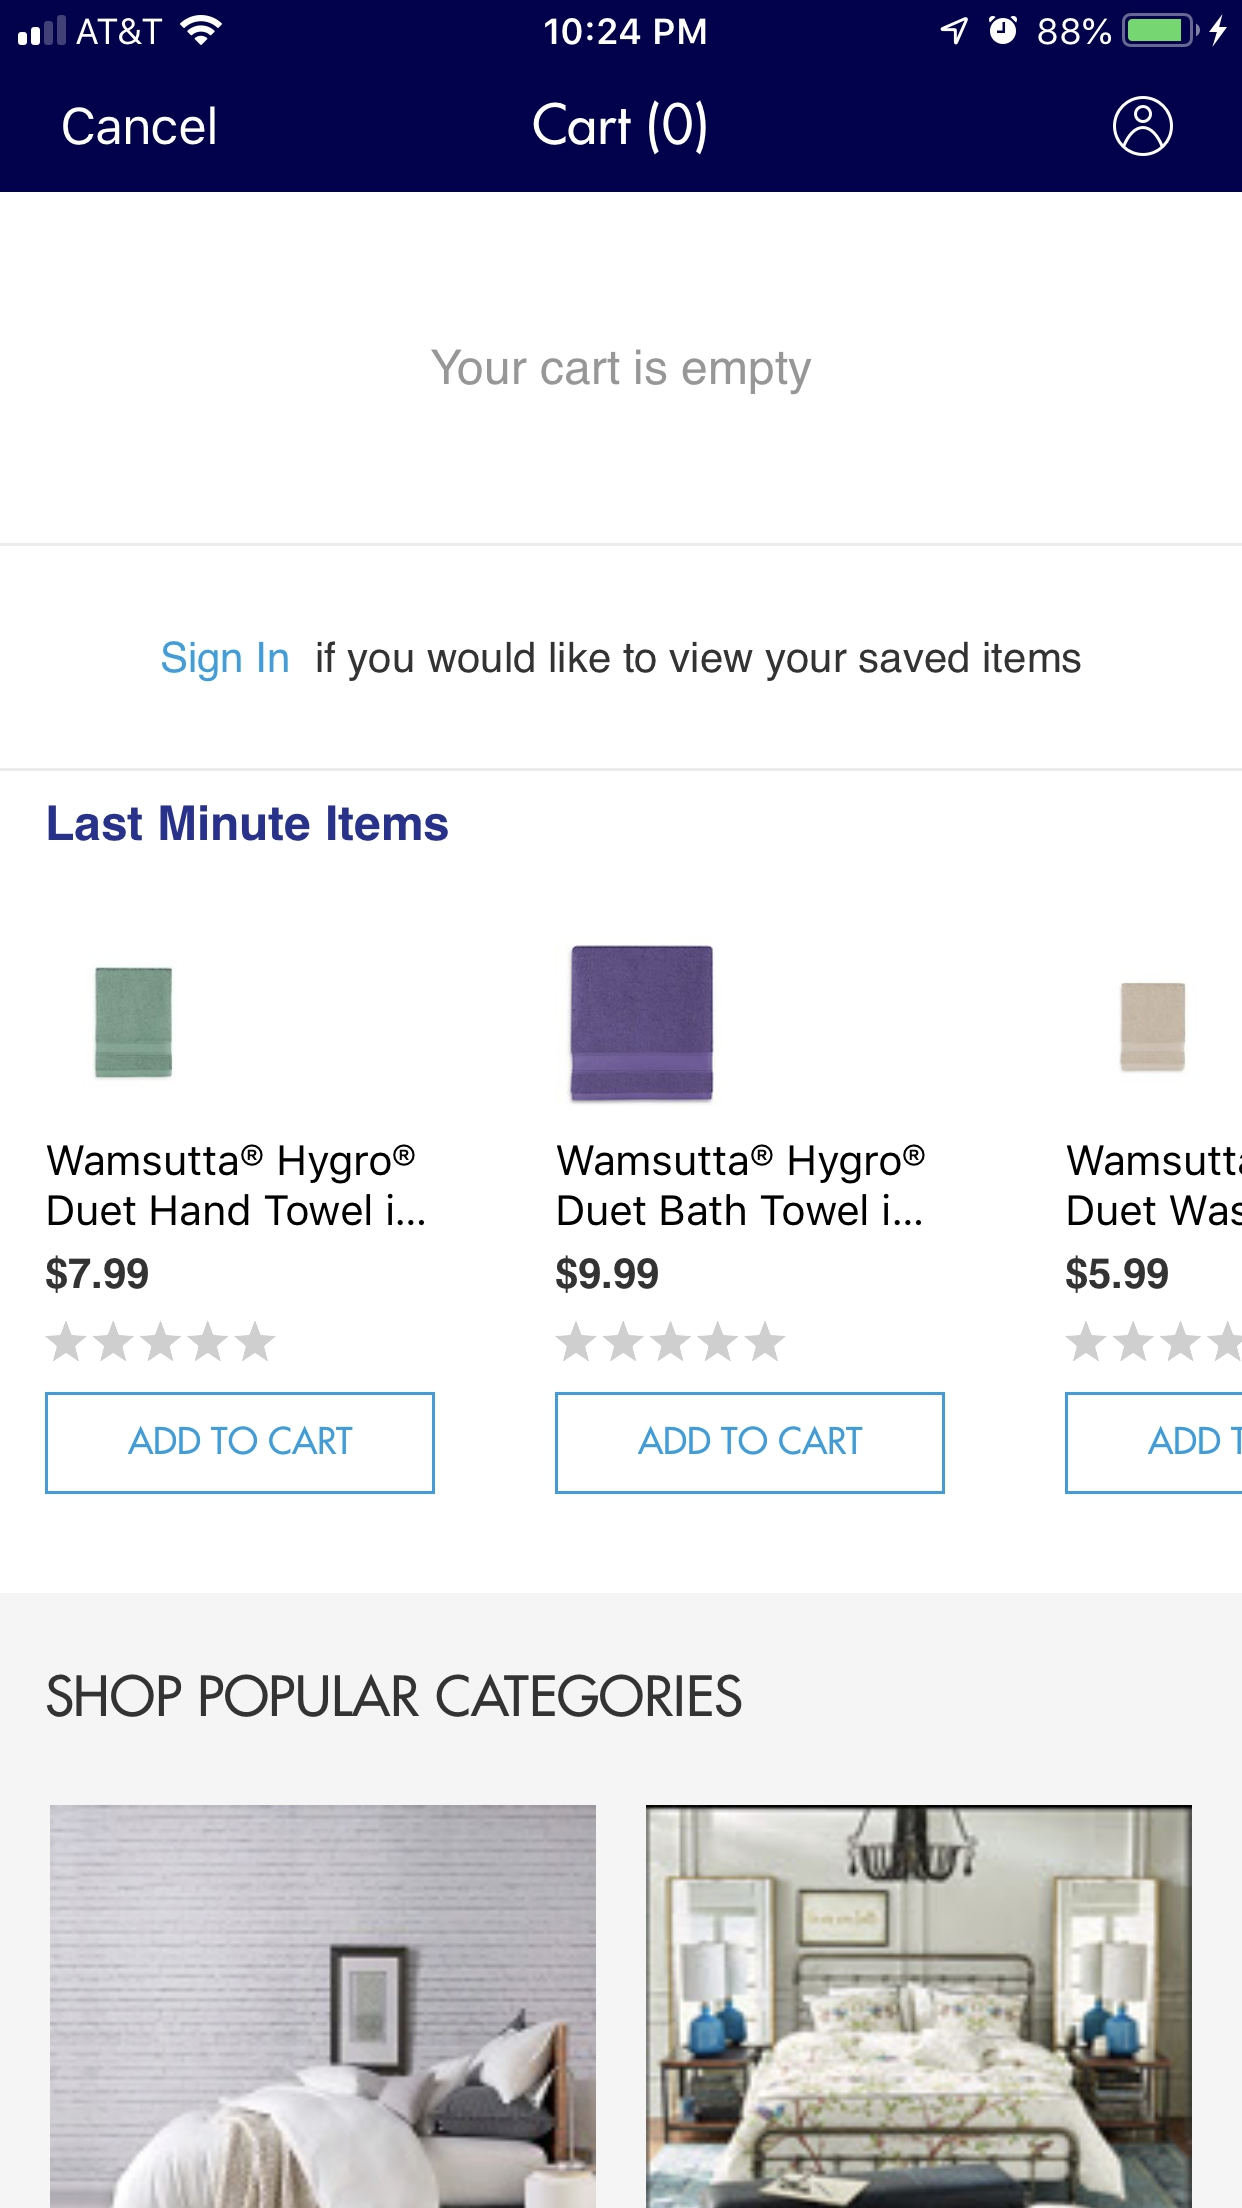Icon: (554, 1321, 787, 1363), (45, 1321, 278, 1363), (1065, 1321, 1242, 1363), (1112, 96, 1174, 158)
Image: (646, 1805, 1193, 2208), (50, 1805, 597, 2208), (572, 945, 714, 1102), (96, 968, 174, 1080), (1121, 983, 1186, 1074)
Text: (162, 640, 1081, 682), (47, 1143, 426, 1227), (47, 1673, 742, 1718), (557, 1143, 927, 1227), (431, 349, 813, 396), (1066, 1143, 1242, 1228), (49, 808, 447, 842), (532, 102, 707, 156), (64, 106, 215, 147), (1065, 1254, 1169, 1294), (555, 1254, 660, 1294), (45, 1254, 150, 1294)
TextButton: (555, 1391, 946, 1495), (45, 1392, 437, 1495), (1065, 1391, 1242, 1495)
UpperTaskBar: (2, 2, 1242, 49)
